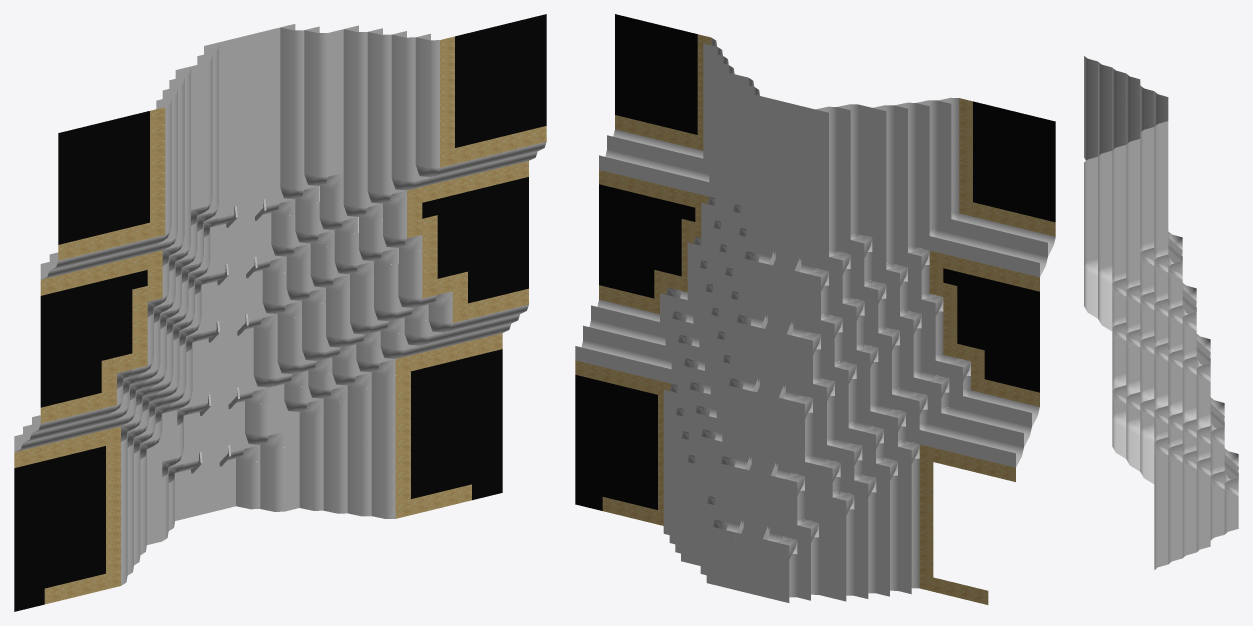
File: Subterranean-Cave-2_02_02.obj
3 views of the same model, side by side, from view 1: azimuth 30°, elevation 25°; view 2: azimuth 150°, elevation 25°; view 3: azimuth 270°, elevation 25° (orthographic). The views are drawn at different scales.
Visible parts, largest first — view 1: map; view 2: map; view 3: map.
Part boxes in pixels (bbox=[...]): map: bbox=[14, 14, 546, 611]; map: bbox=[575, 14, 1055, 604]; map: bbox=[1084, 56, 1238, 569].
Bounding box in the file's own units: 32 × 32 × 11.01.
